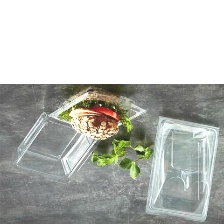plastic_box: (8, 84, 150, 189), (140, 111, 224, 224)
